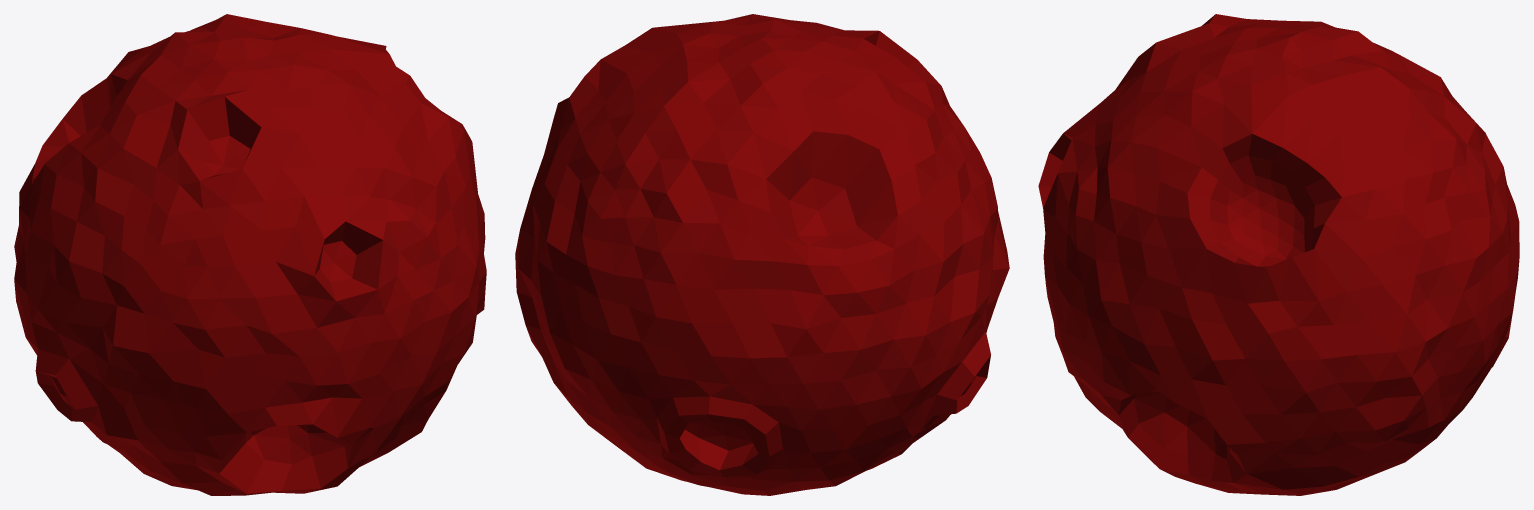
Rendered from blood_moon.glb.
3 views of the same model, side by side, from view 1: azimuth 30°, elevation 25°; view 2: azimuth 150°, elevation 25°; view 3: azimuth 270°, elevation 25° (orthographic).
Parts seen in each view (by area): view 1: BLOODMOON; view 2: BLOODMOON; view 3: BLOODMOON.
Boxes of the visible parts, x1,y1,x2,y2 form: BLOODMOON: (14,14,486,495); BLOODMOON: (515,14,1009,495); BLOODMOON: (1038,14,1519,495).
Bounding box in the file's own units: 2.04 × 2.03 × 2.02.
1 material, 1 textured.
